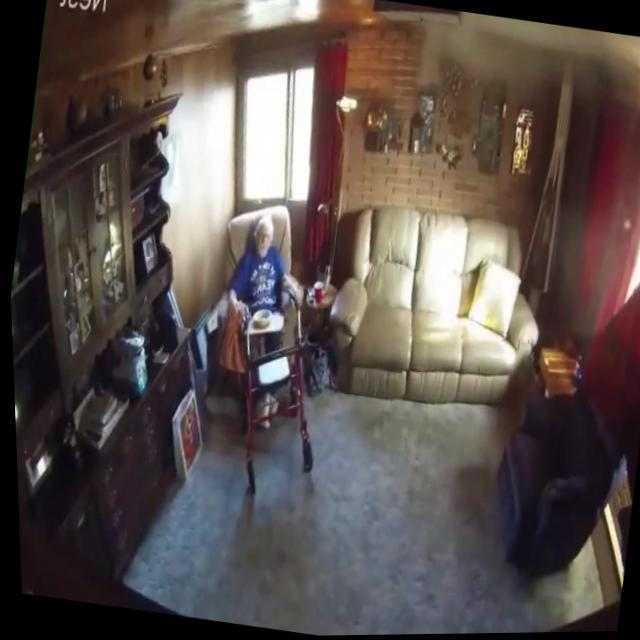fire: (628, 69, 640, 121)
